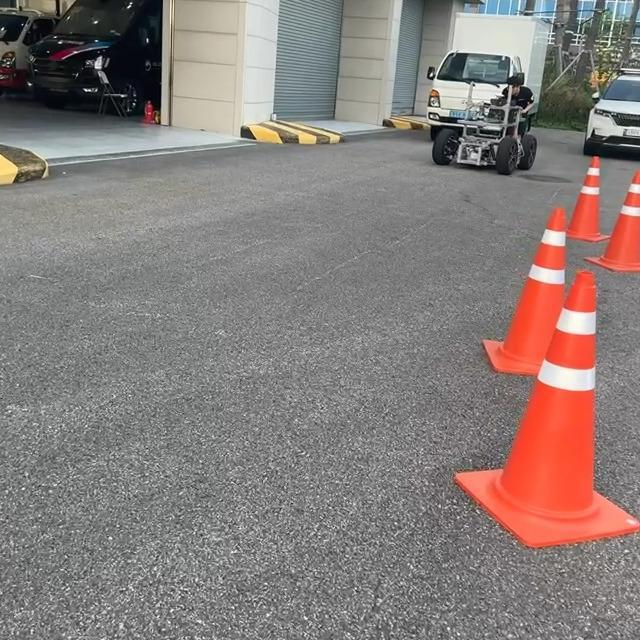fallen_object: (443, 256, 635, 640), (553, 123, 640, 296), (483, 227, 572, 378)
